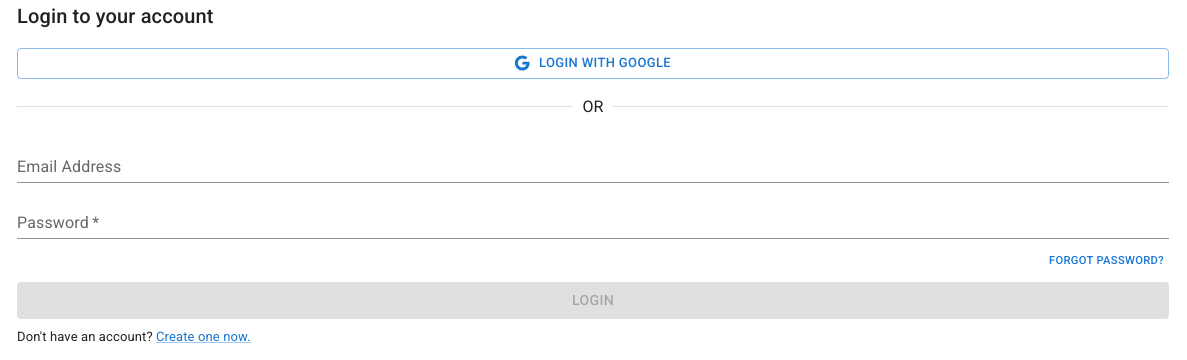
Test case: <LoginForm /> › submit button is disabled when only password is filled out
This screenshot has width=1187, height=360.
Type "test@gmail.com" into the field with placeholder "Email Address".
click(593, 167); type("test@gmail.com")  # box [17,151,1169,183]
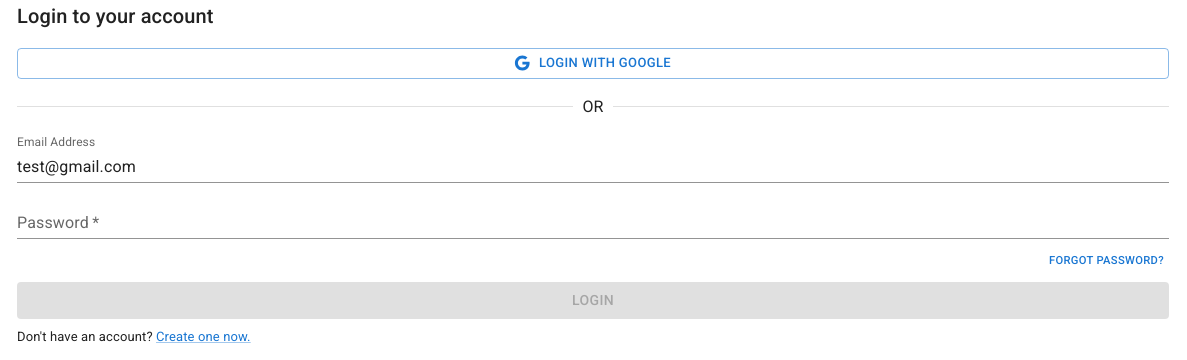
Type "123456" into the password field with placeholder "Password".
click(593, 223); type("123456")  # box [17,207,1169,239]
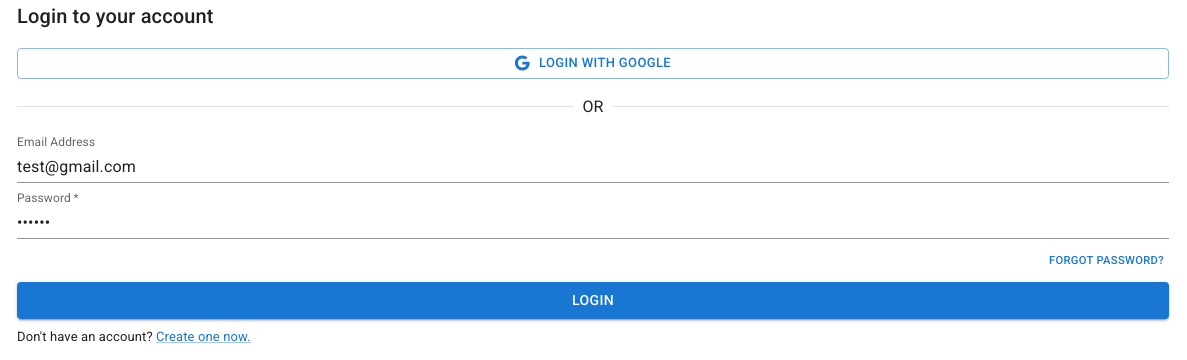
Check: the button "Login" is enabled, box [17,282,1169,319]
